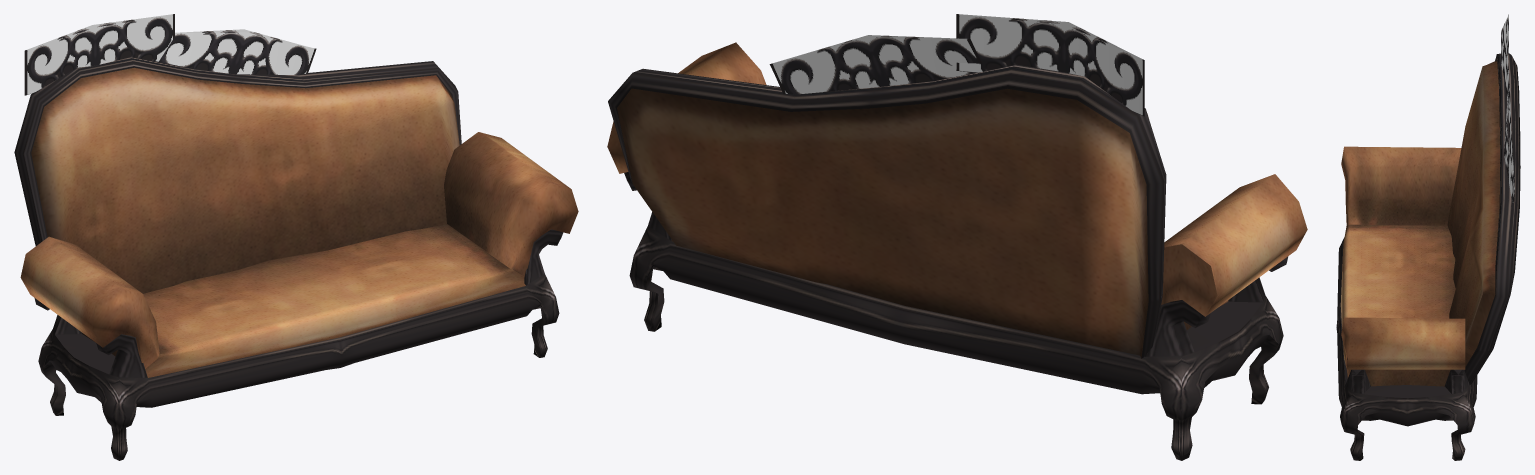
The model's file is AntiqueSofa_HD.fbx.
3 renders of one model, left to right at view 1: azimuth 30°, elevation 25°; view 2: azimuth 150°, elevation 25°; view 3: azimuth 270°, elevation 25°, orthographic. The views are drawn at different scales.
Parts seen in each view (by area): view 1: AntiqueSofa; view 2: AntiqueSofa; view 3: AntiqueSofa.
Boxes of the visible parts, bbox=[...] form: AntiqueSofa: bbox=[14, 14, 578, 460]; AntiqueSofa: bbox=[607, 14, 1307, 460]; AntiqueSofa: bbox=[1336, 14, 1520, 460].
Size of the model in its own units: 1.99 by 1.37 by 0.8003.
